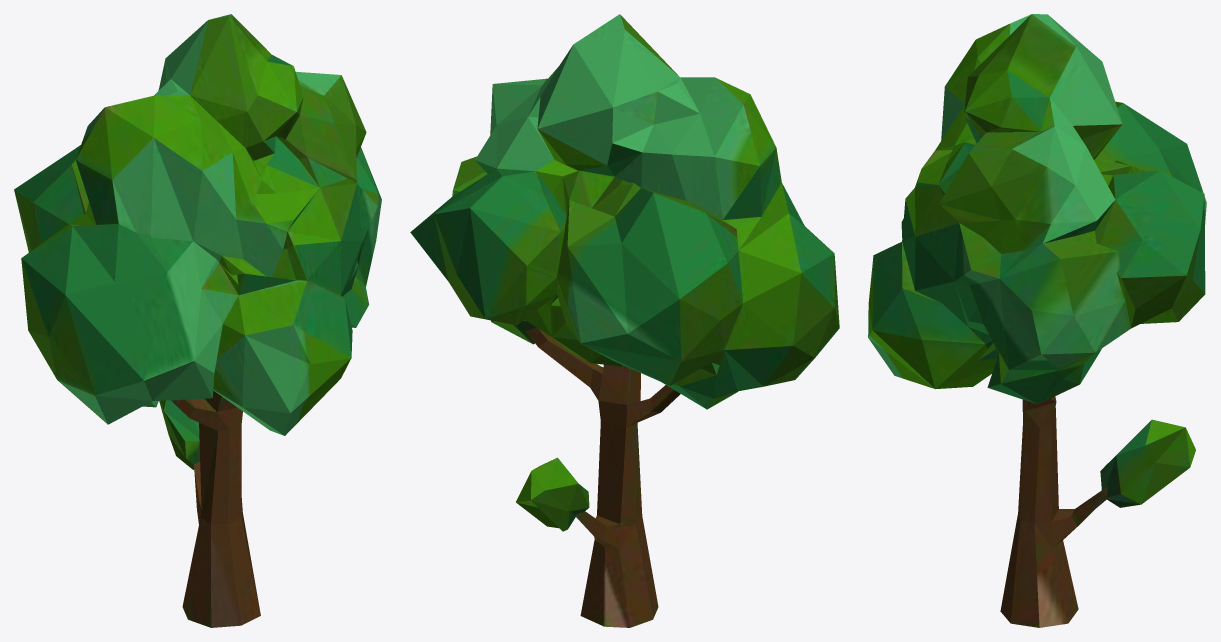
File: tree4.glb
The picture shows the model from 3 angles, left to right: view 1: azimuth 30°, elevation 25°; view 2: azimuth 150°, elevation 25°; view 3: azimuth 270°, elevation 25°; orthographic projection.
Parts seen in each view (by area): view 1: car; view 2: car; view 3: car.
Part boxes in pixels (box(x1,y1,x2,y2)): car: box(14, 14, 381, 627); car: box(410, 14, 839, 627); car: box(868, 14, 1206, 627).
Size of the model in its own units: 1.1 by 1.8 by 0.9209.
Materials: 1 (1 with a texture image).
